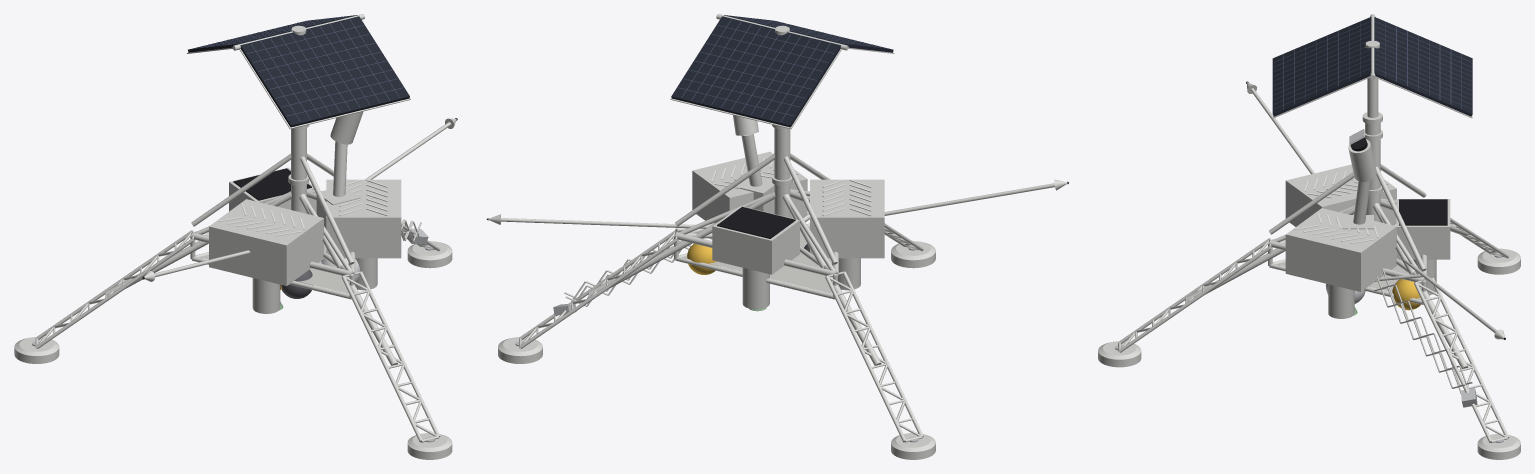
Rendered from surveyor3.glb.
3 renders of one model, left to right at view 1: azimuth 30°, elevation 25°; view 2: azimuth 150°, elevation 25°; view 3: azimuth 270°, elevation 25°, orthographic. The views are drawn at different scales.
Visible parts, largest first — view 1: Surveyor 3; view 2: Surveyor 3; view 3: Surveyor 3.
Part boxes in pixels (x1,y1,x2,y2): Surveyor 3: [14, 14, 457, 459]; Surveyor 3: [486, 14, 1068, 459]; Surveyor 3: [1098, 14, 1520, 459].
Size of the model in its own units: 4.15 by 2.88 by 3.51.
